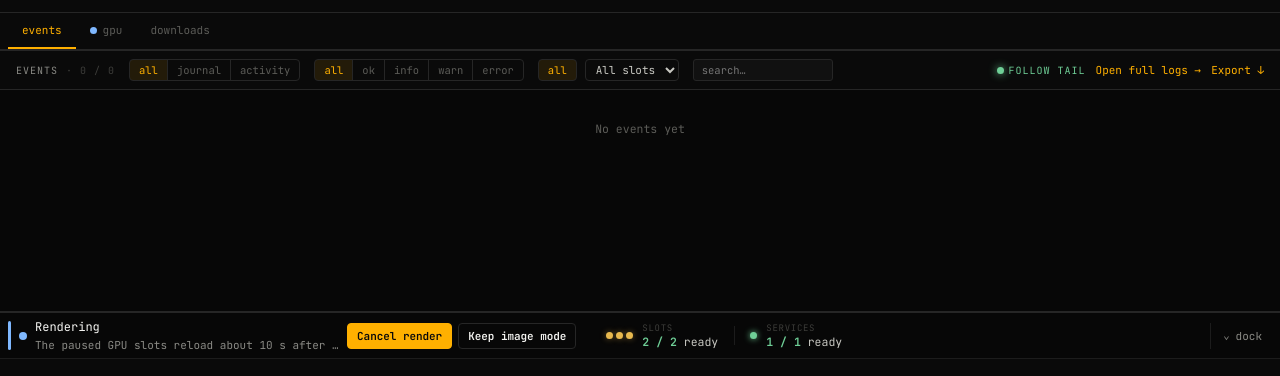
the dock GPU tab › gpu facts list the slots, paused ones hollow while image mode is on
The image size is (1280, 376).
Click the button with test id "dock-tab-gpu".
click(106, 31)  # box [76,13,136,49]
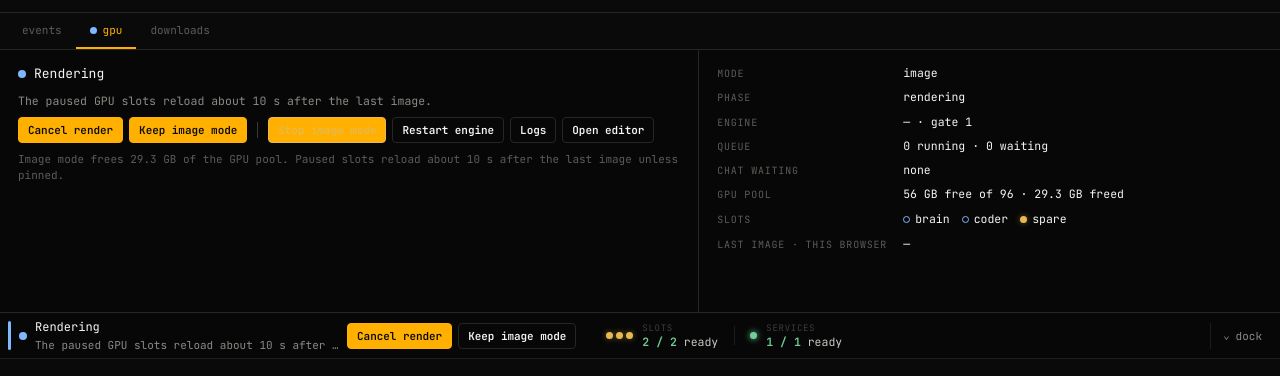
Check: the text "slots" next to "brain" is shown, box [717,212,751,226]
